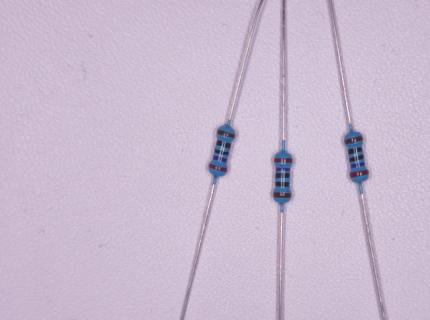Black band: (216, 140, 232, 149), (349, 154, 365, 163), (214, 148, 229, 156), (348, 147, 364, 154), (275, 172, 290, 179), (275, 181, 290, 187)
Brown band: (216, 129, 236, 139), (344, 135, 363, 145), (273, 192, 291, 198)
Red band: (209, 164, 228, 172), (350, 171, 368, 177), (274, 158, 293, 163)
Violet band: (351, 162, 365, 169), (213, 156, 227, 162), (276, 168, 290, 171)
